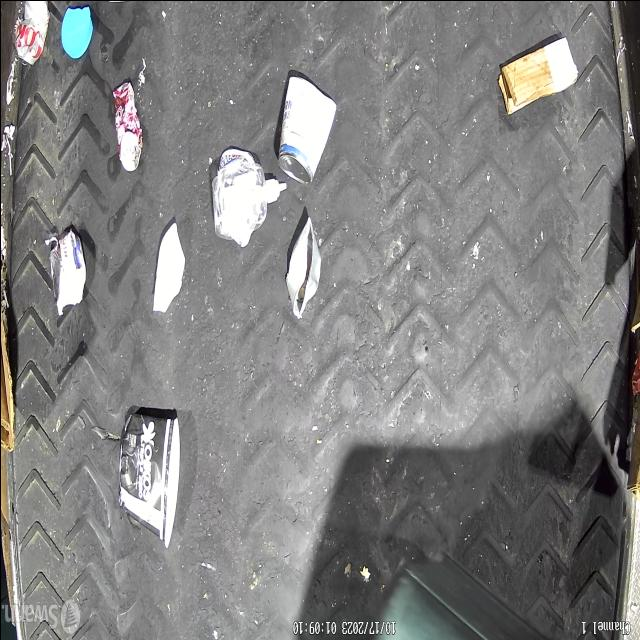can: (275, 74, 337, 185), (285, 215, 321, 318), (110, 80, 142, 171), (50, 230, 85, 308), (11, 0, 48, 67)
